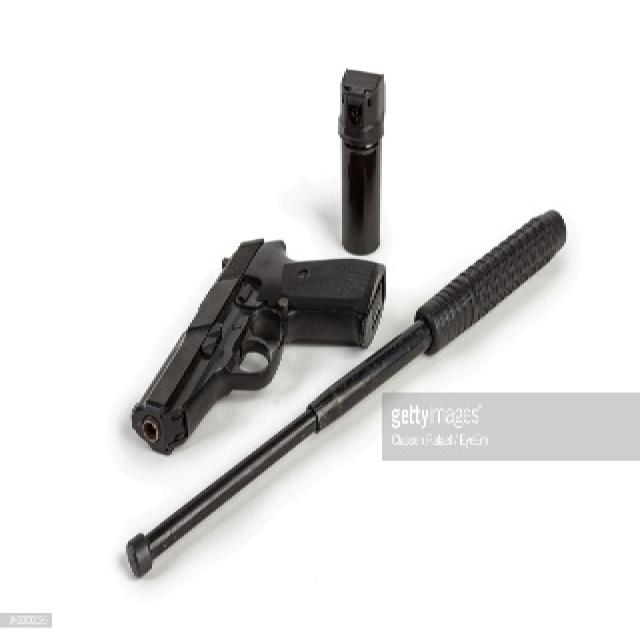handgun: (123, 233, 395, 455)
